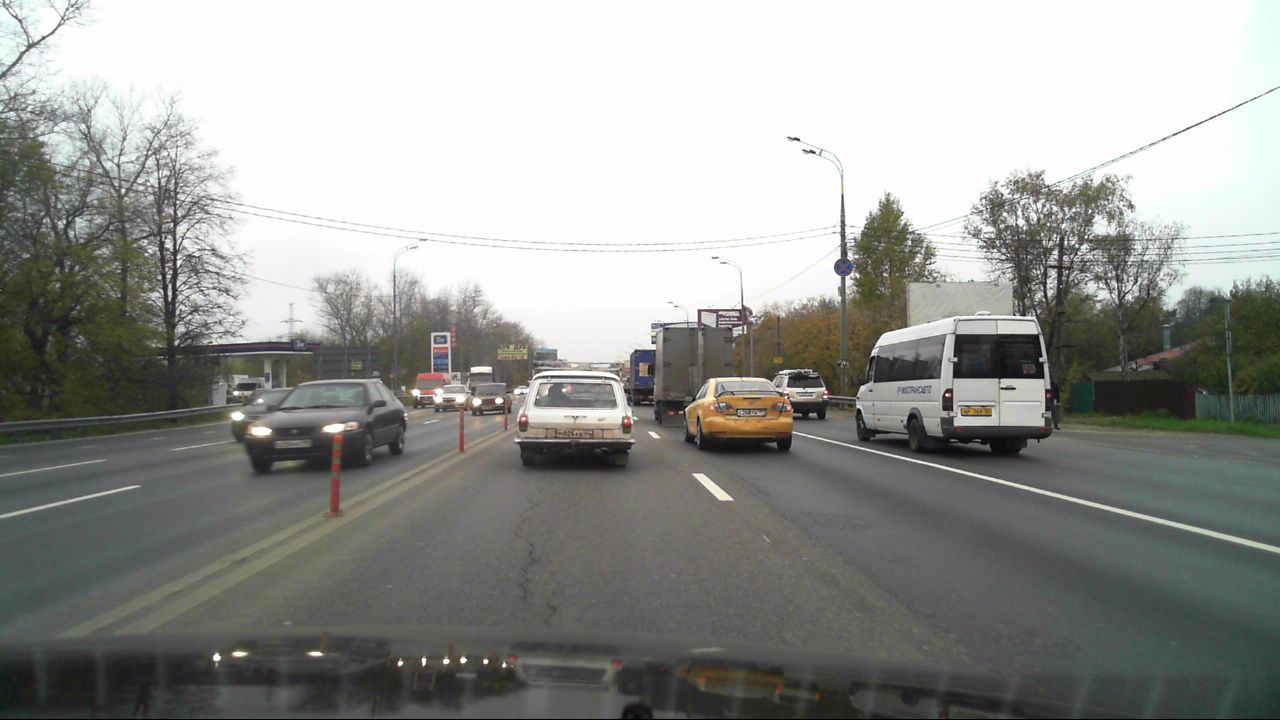No Parking: (834, 258, 853, 276)
